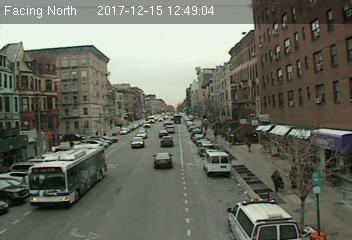bus: (24, 142, 109, 210)
car: (151, 152, 174, 167), (159, 136, 174, 147), (129, 137, 144, 148)
pedestrian: (269, 167, 285, 193)
police: (227, 197, 301, 240)
truck: (204, 151, 230, 175)
